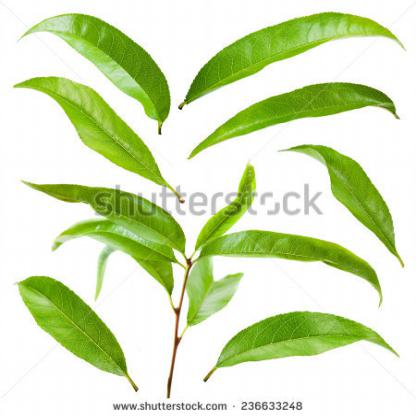Peach leaf: (178, 11, 405, 113), (11, 73, 179, 197), (13, 10, 171, 134), (181, 81, 402, 166), (189, 310, 402, 387), (282, 143, 406, 269), (15, 276, 144, 394), (18, 173, 183, 258), (198, 227, 386, 296), (190, 156, 273, 263)
